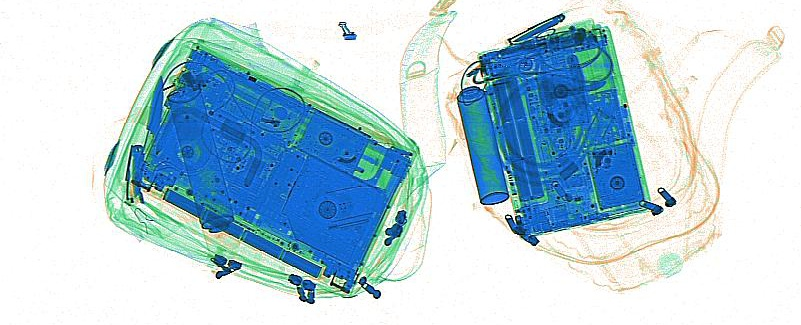knife: (140, 73, 166, 180), (505, 10, 566, 45), (122, 141, 145, 201)
pressure: (167, 81, 235, 235), (455, 84, 511, 205)
